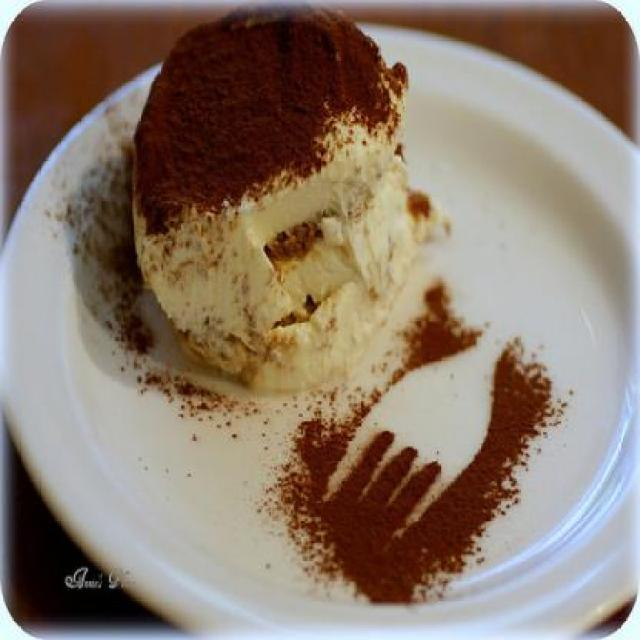Tiramisu: (106, 21, 426, 354)
